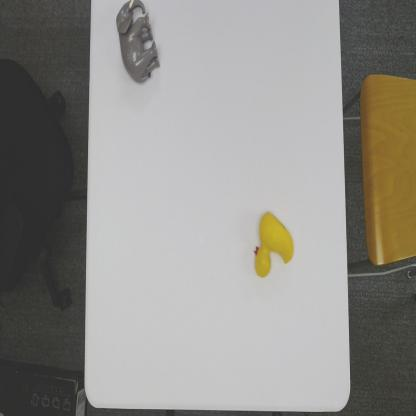Duck: (252, 208, 295, 281)
Elephant: (116, 0, 160, 85)
